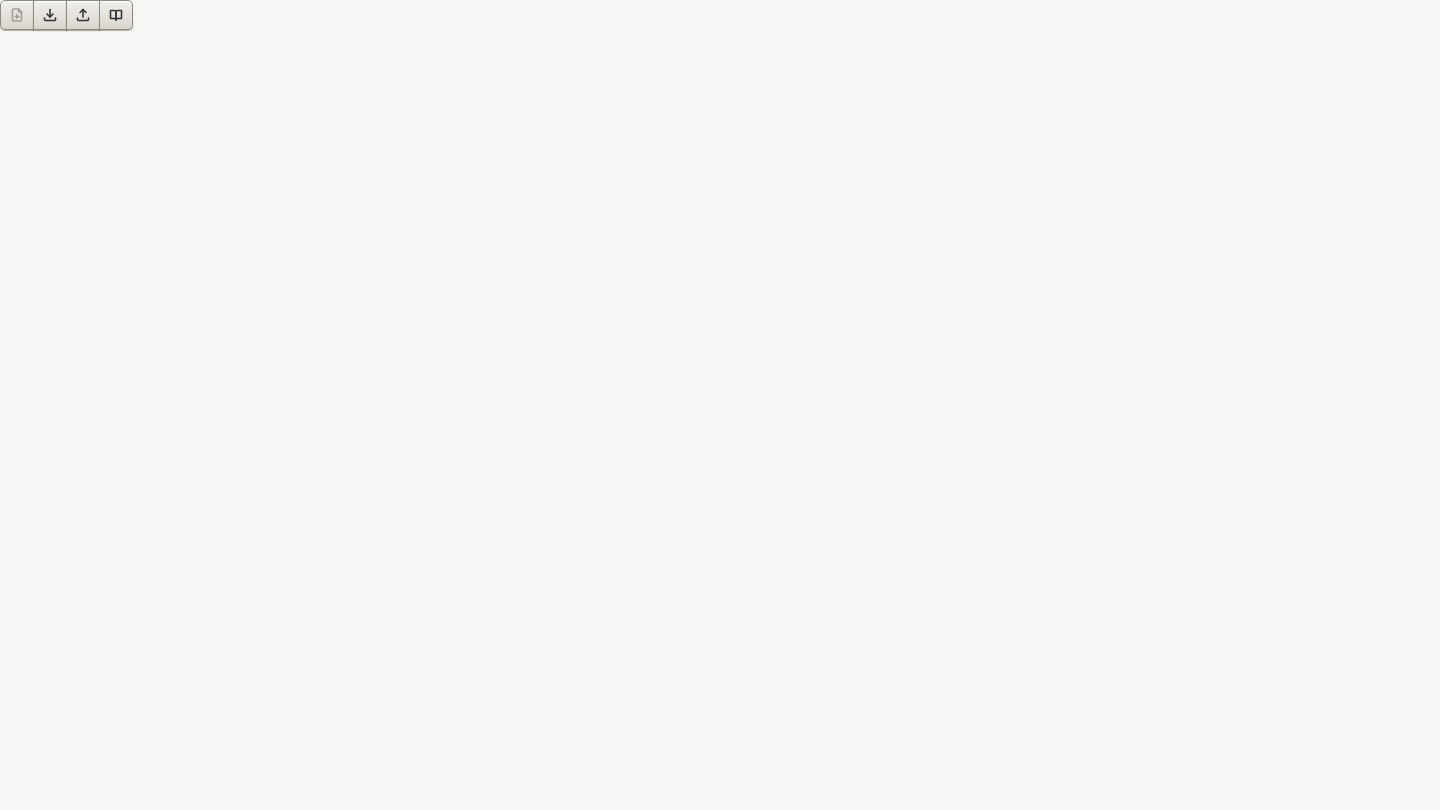
Test: PatchFileControls › examples › opens with the search field focused, and the examples in sections by category
The width and height of the screenshot is (1440, 810).
Click the button named "Examples": (116,15) x1=99 y1=0 x2=133 y2=30
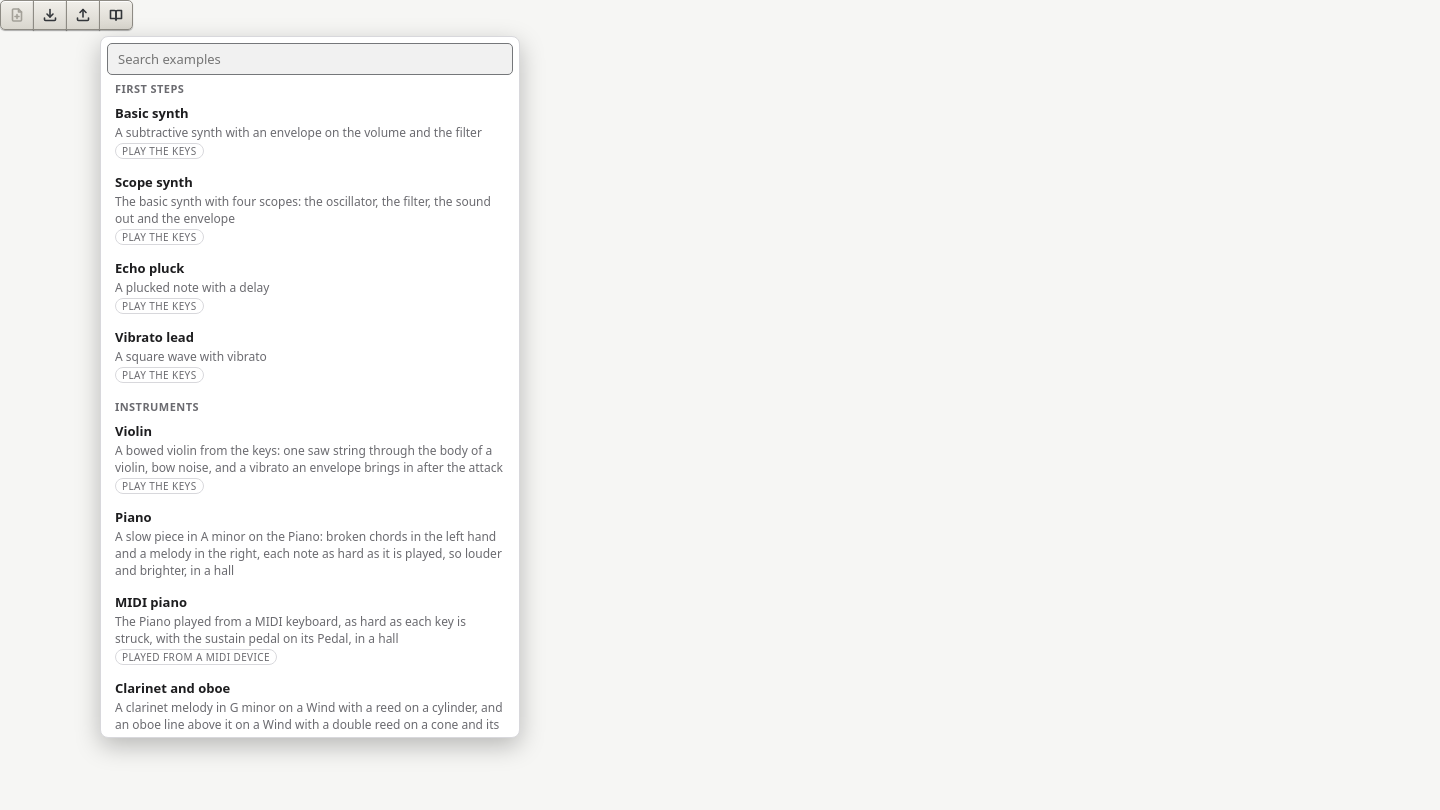
Expected: the heading "First steps" is shown, x1=115 y1=81 x2=184 y2=96
Expected: the button "Basic synth" is shown, x1=107 y1=98 x2=513 y2=165
Expected: the button "Violin" is shown, x1=107 y1=416 x2=513 y2=500
